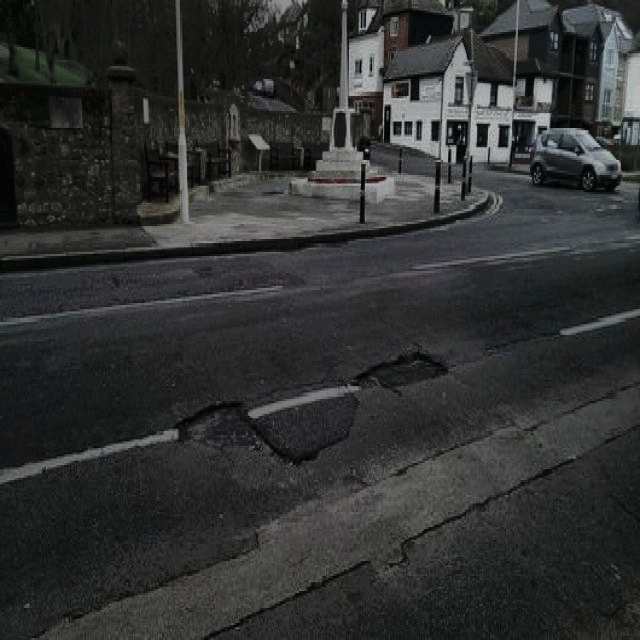Pothole: (175, 395, 256, 448), (358, 348, 450, 392)
